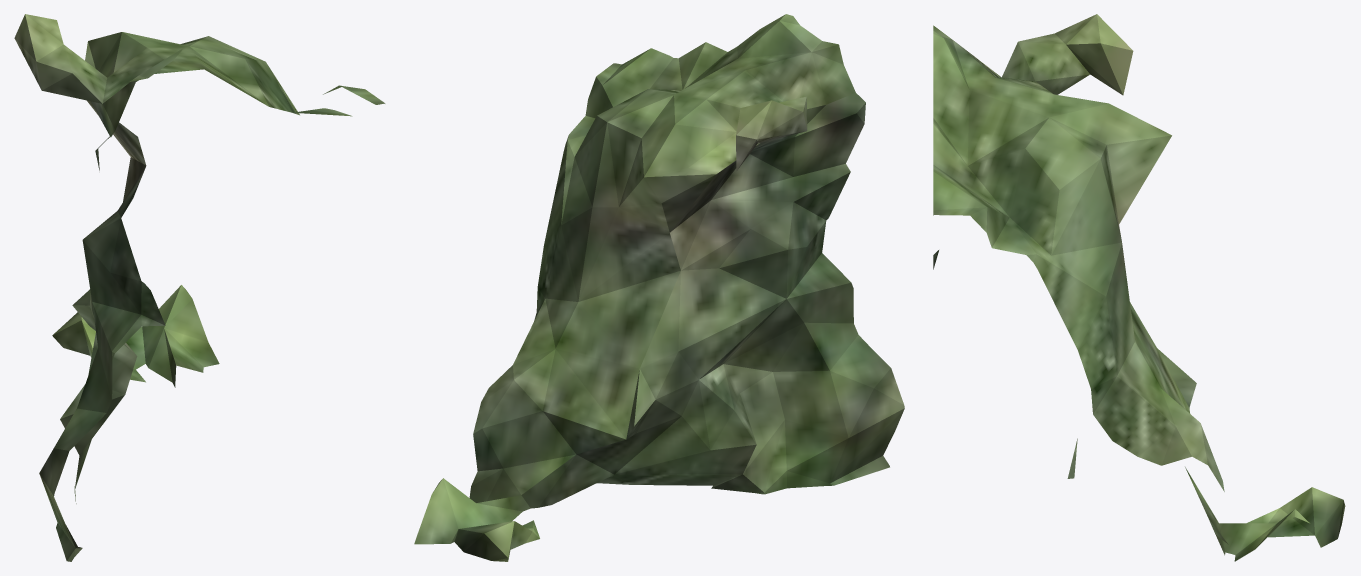
3 views of the same model, side by side, from view 1: azimuth 30°, elevation 25°; view 2: azimuth 150°, elevation 25°; view 3: azimuth 270°, elevation 25° (orthographic). The views are drawn at different scales.
Size of the model in its own units: 5.48 by 7.67 by 6.52.
Materials: 1 (1 with a texture image).
